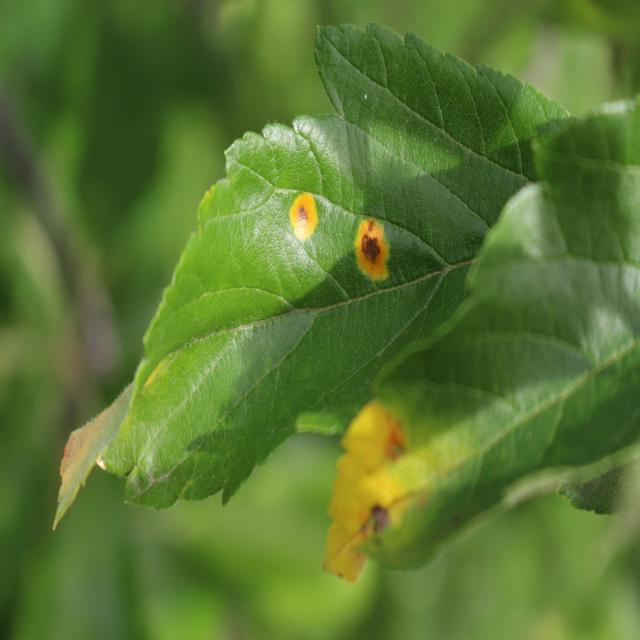Rust: (315, 390, 432, 614), (347, 198, 399, 302), (273, 182, 333, 246)
